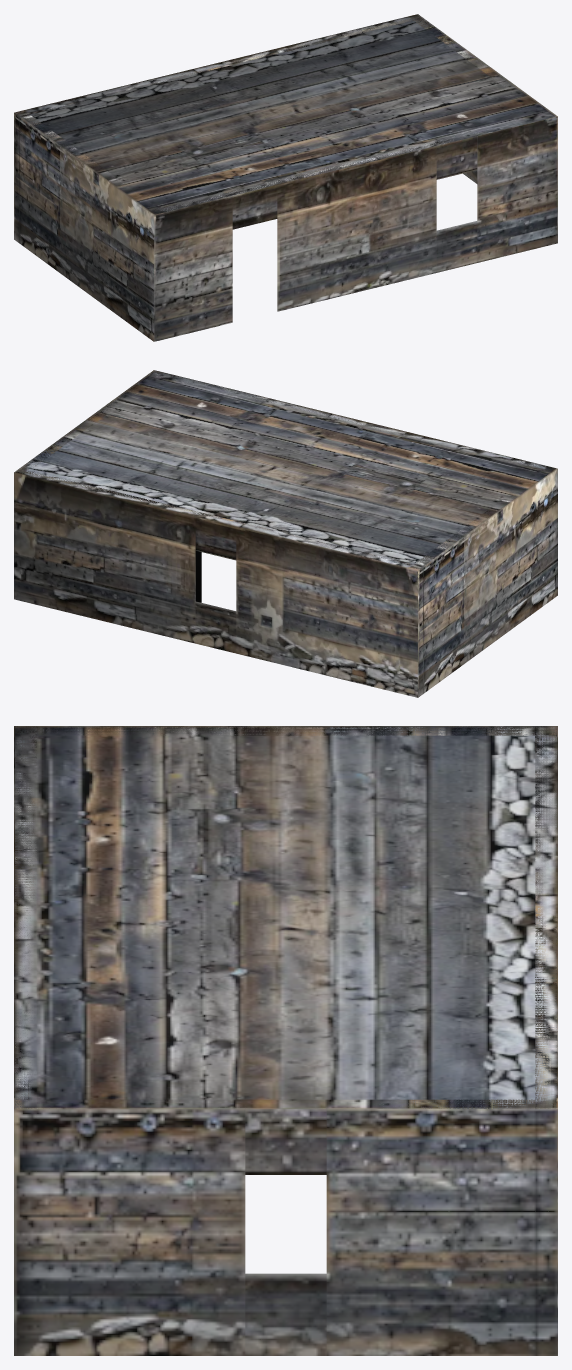
The model's file is skin_bridge_-140_58.glb.
The picture shows the model from 3 angles, top to bottom: view 1: azimuth 30°, elevation 25°; view 2: azimuth 150°, elevation 25°; view 3: azimuth 270°, elevation 25°; orthographic projection. The views are drawn at different scales.
Parts seen in each view (by area): view 1: bridge_-140_58; view 2: bridge_-140_58; view 3: bridge_-140_58.
Part boxes in pixels (left/top/right/bottom): bridge_-140_58: left=14, top=14, right=557, bottom=341; bridge_-140_58: left=14, top=370, right=557, bottom=697; bridge_-140_58: left=14, top=726, right=557, bottom=1355.
Bounding box in the file's own units: 10 × 3 × 6.
Materials: 1 (1 with a texture image).
